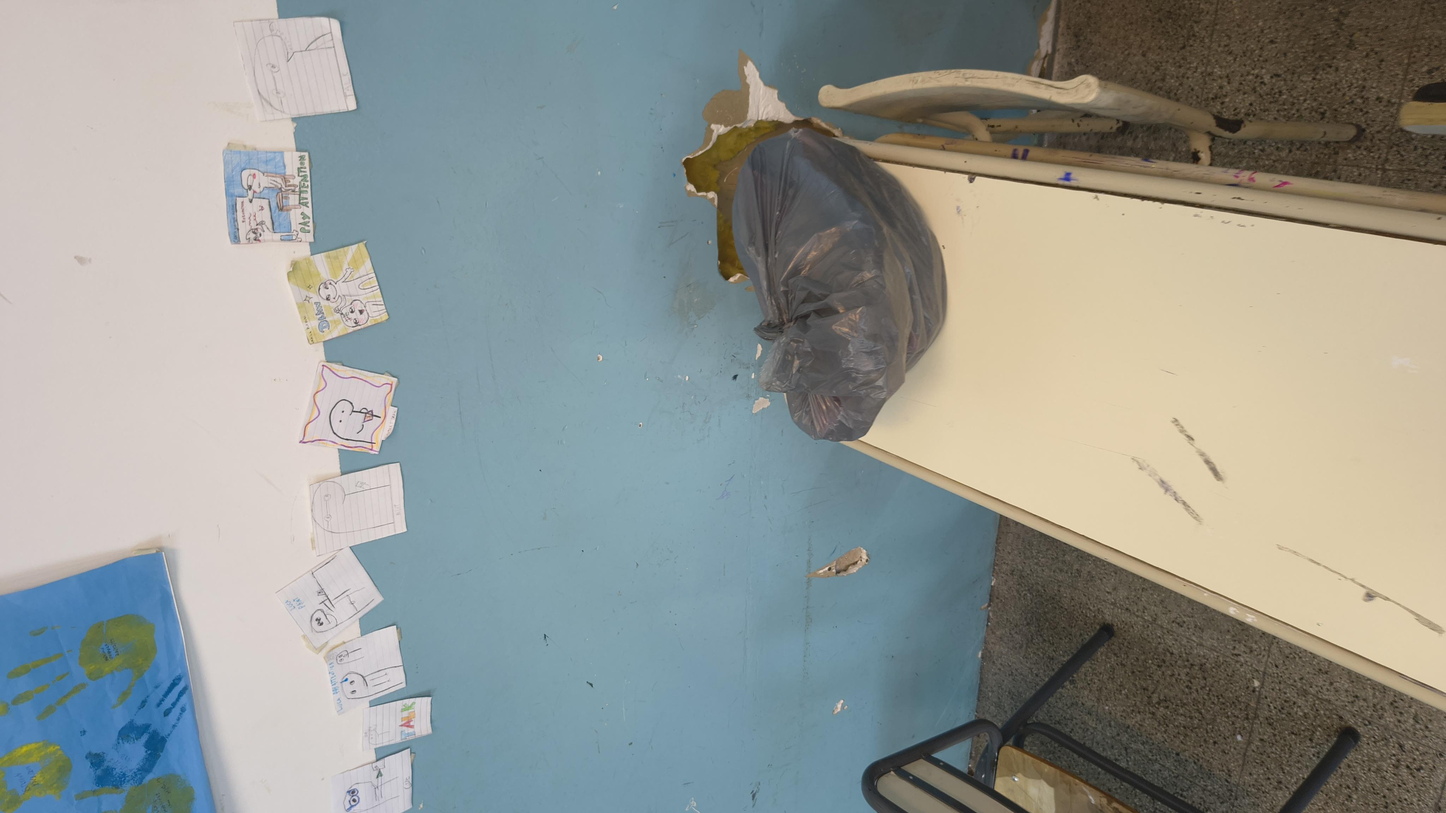Garbage: (602, 387, 1318, 546)
